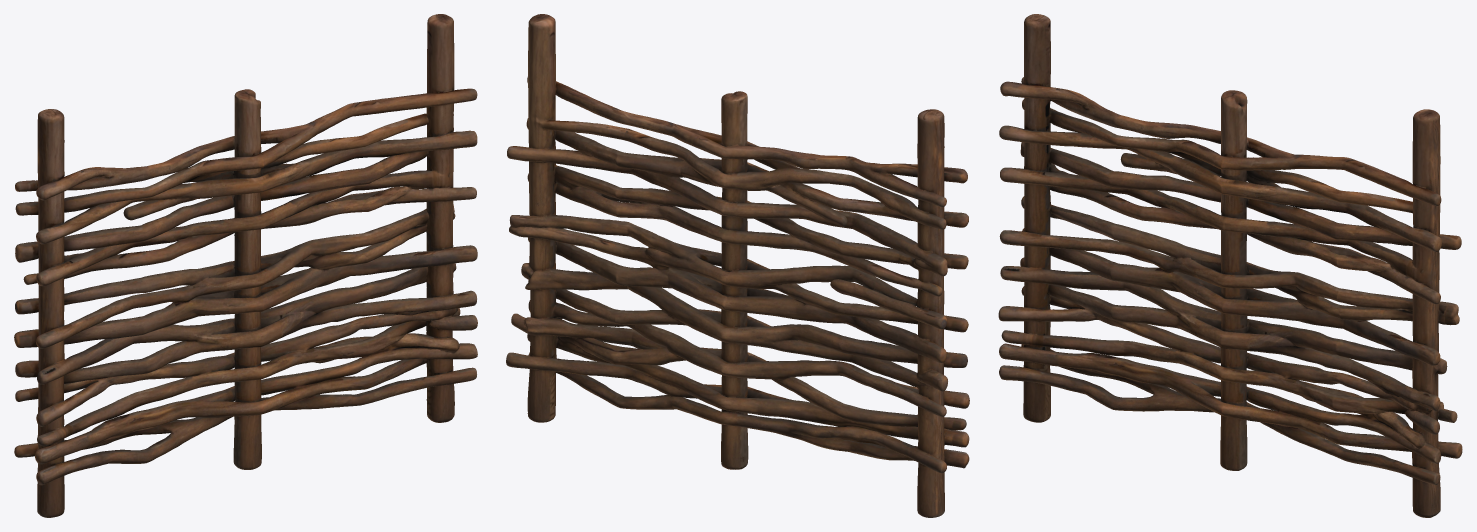
The model's file is o64_orme_cubuk_cit_ceper.glb.
3 views of the same model, side by side, from view 1: azimuth 30°, elevation 25°; view 2: azimuth 150°, elevation 25°; view 3: azimuth 330°, elevation 25° (orthographic).
Bounding box in the file's own units: 2 × 1.75 × 0.2325.
Materials: 1 (1 with a texture image).
